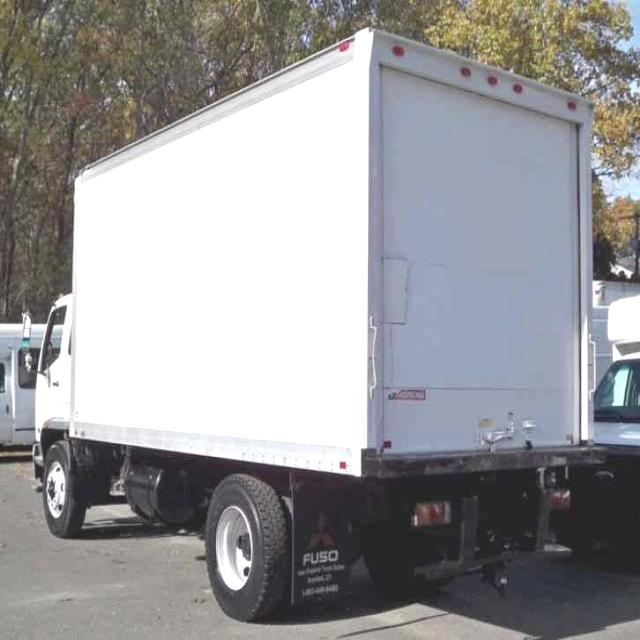truck: (21, 24, 595, 612)
